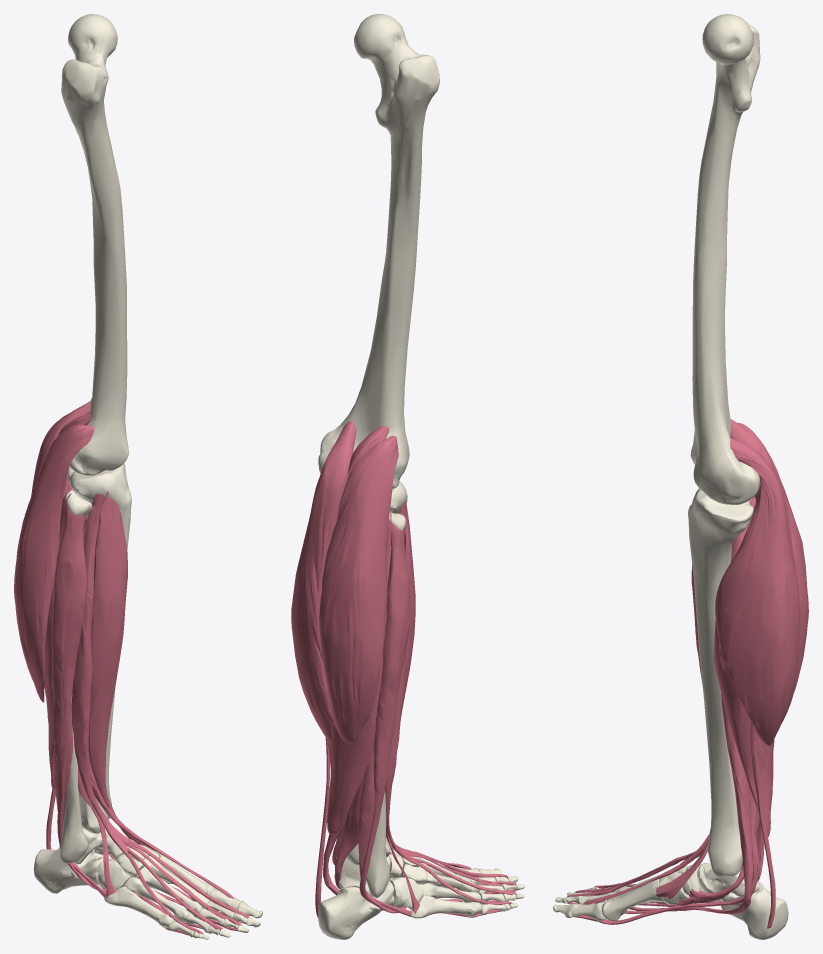
File: lowerleg.glb
The picture shows the model from 3 angles, left to right: view 1: azimuth 90°, elevation 25°; view 2: azimuth 150°, elevation 25°; view 3: azimuth 270°, elevation 25°; orthographic projection. The views are drawn at different scales.
Visible parts, largest first — view 1: femur, gastrocnemius, tibialis-anterior, fibularis-longus, extensor-digitorum-longus, tibia, fibula, calcaneus, soleus, metatarsal-5, extensor-hallucis-longus, fibularis-brevis (+7 smaller); view 2: gastrocnemius, femur, fibularis-longus, soleus, extensor-digitorum-longus, calcaneus, fibula, fibularis-brevis, plantaris, flexor-hallucis-longus, tibialis-anterior, metatarsal-5 (+5 smaller); view 3: femur, gastrocnemius, tibia, soleus, flexor-digitorum-longus, calcaneus, plantaris, flexor-hallucis-longus, metatarsal-1, tibialis-anterior, talus, extensor-digitorum-longus (+2 smaller).
Boxes of the visible parts, x1=… form: femur: x1=61, y1=14, x2=128, y2=475; gastrocnemius: x1=14, y1=401, x2=94, y2=702; tibialis-anterior: x1=88, y1=496, x2=155, y2=851; fibularis-longus: x1=52, y1=504, x2=106, y2=892; extensor-digitorum-longus: x1=71, y1=491, x2=249, y2=934; tibia: x1=67, y1=463, x2=131, y2=833; fibula: x1=60, y1=490, x2=92, y2=863; calcaneus: x1=33, y1=846, x2=109, y2=893; soleus: x1=44, y1=490, x2=87, y2=788; metatarsal-5: x1=104, y1=886, x2=174, y2=927; extensor-hallucis-longus: x1=88, y1=753, x2=233, y2=898; fibularis-brevis: x1=54, y1=701, x2=106, y2=897; gastrocnemius: x1=291, y1=421, x2=398, y2=744; femur: x1=318, y1=14, x2=439, y2=488; fibularis-longus: x1=359, y1=523, x2=411, y2=913; soleus: x1=327, y1=511, x2=392, y2=834; extensor-digitorum-longus: x1=385, y1=496, x2=516, y2=904; calcaneus: x1=318, y1=880, x2=394, y2=939; fibula: x1=366, y1=512, x2=405, y2=898; fibularis-brevis: x1=358, y1=747, x2=411, y2=916; plantaris: x1=315, y1=426, x2=389, y2=917; flexor-hallucis-longus: x1=334, y1=774, x2=448, y2=889; tibialis-anterior: x1=389, y1=504, x2=415, y2=853; metatarsal-5: x1=410, y1=895, x2=482, y2=918; femur: x1=690, y1=14, x2=760, y2=504; gastrocnemius: x1=715, y1=423, x2=808, y2=745; tibia: x1=687, y1=488, x2=753, y2=878; soleus: x1=714, y1=496, x2=774, y2=836; flexor-digitorum-longus: x1=567, y1=691, x2=752, y2=914; calcaneus: x1=718, y1=881, x2=788, y2=939; plantaris: x1=730, y1=419, x2=775, y2=928; flexor-hallucis-longus: x1=573, y1=789, x2=760, y2=924; metatarsal-1: x1=602, y1=879, x2=663, y2=920; tibialis-anterior: x1=655, y1=564, x2=708, y2=899; talus: x1=698, y1=863, x2=760, y2=897; extensor-digitorum-longus: x1=567, y1=850, x2=703, y2=897.
Bounding box in the file's own units: 0.1476 × 0.9062 × 0.2302.
